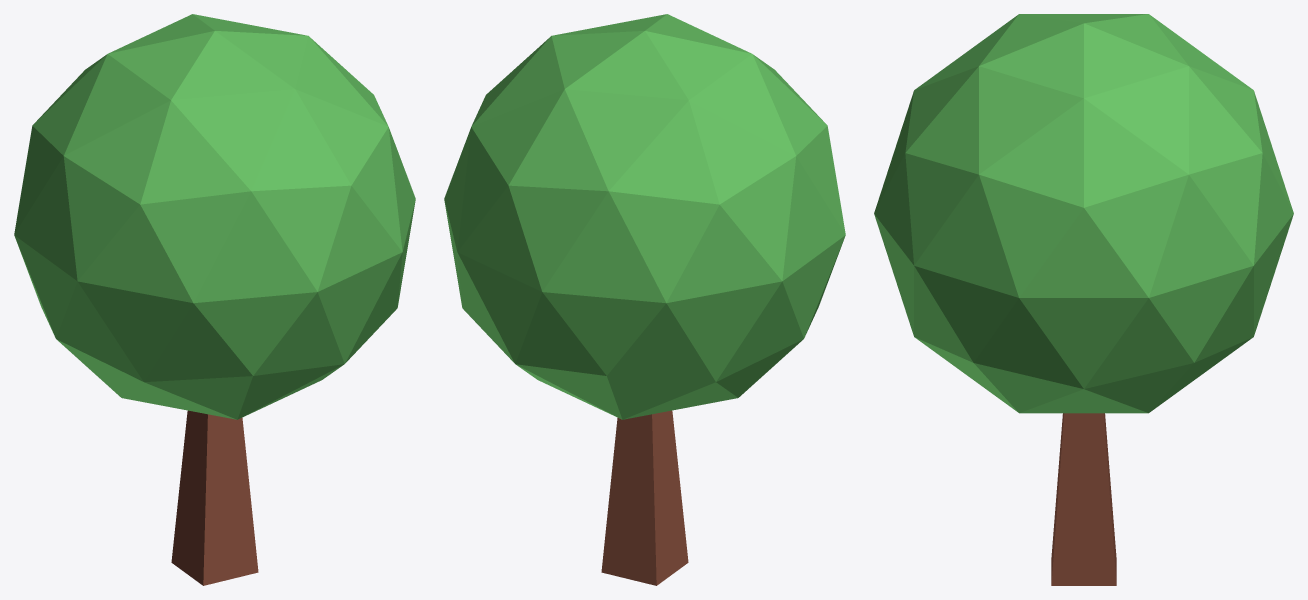
File: oak_tree.glb
3 views of the same model, side by side, from view 1: azimuth 30°, elevation 25°; view 2: azimuth 150°, elevation 25°; view 3: azimuth 270°, elevation 25° (orthographic). The views are drawn at different scales.
Parts seen in each view (by area): view 1: Icosphere, Cube.002; view 2: Icosphere, Cube.002; view 3: Icosphere, Cube.002.
Part boxes in pixels (bbox=[...]): Icosphere: bbox=[14, 14, 415, 419]; Cube.002: bbox=[171, 410, 258, 585]; Icosphere: bbox=[444, 14, 845, 419]; Cube.002: bbox=[601, 410, 688, 585]; Icosphere: bbox=[874, 14, 1293, 413]; Cube.002: bbox=[1051, 413, 1116, 585].
Size of the model in its own units: 1.31 by 1.99 by 1.38.
